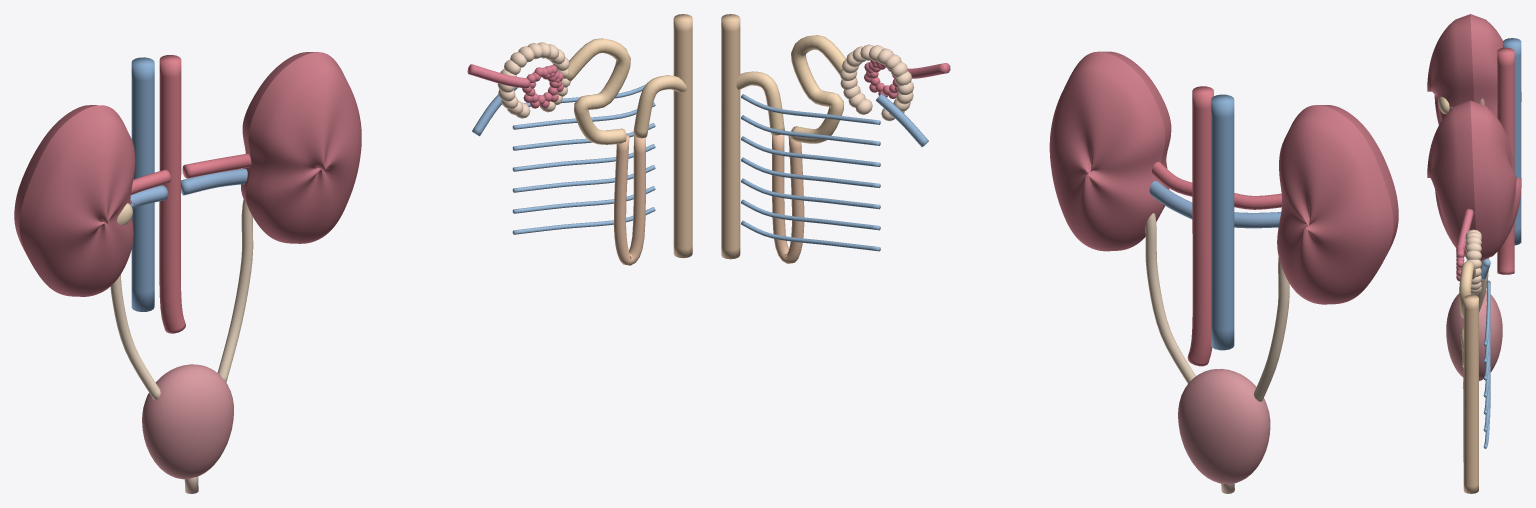
File: excretory-atlas.glb
The picture shows the model from 3 angles, left to right: view 1: azimuth 30°, elevation 25°; view 2: azimuth 150°, elevation 25°; view 3: azimuth 270°, elevation 25°; orthographic projection. The views are drawn at different scales.
Visible parts, largest first — view 1: Right kidney exterior 1, Left kidney exterior 1, Urinary bladder 1, Renal artery 20, Renal vein 20, Collecting duct 1, Loop of Henle 1, Renal tubule 1, Ureters 2, Ureters 1, Renal tubule 2, Renal vein 17 (+1 smaller); view 2: Left kidney exterior 1, Right kidney exterior 1, Urinary bladder 1, Renal vein 20, Renal artery 20, Collecting duct 1, Renal tubule 1, Loop of Henle 1, Ureters 2, Ureters 1, Renal tubule 2, Renal vein 17 (+8 smaller); view 3: Right kidney exterior 1, Left kidney exterior 1, Collecting duct 1, Urinary bladder 1, Renal artery 20, Renal vein 20, Renal tubule 1, Glomerulus 27, Peritubular capillaries 1, Ureters 2, Renal pelvis 8, Glomerulus 28 (+8 smaller).
Part boxes in pixels (left/top/right/bottom): Right kidney exterior 1: left=241, top=52, right=361, bottom=243; Left kidney exterior 1: left=14, top=105, right=135, bottom=296; Urinary bladder 1: left=142, top=364, right=233, bottom=479; Renal artery 20: left=159, top=55, right=185, bottom=333; Renal vein 20: left=131, top=57, right=154, bottom=311; Collecting duct 1: left=673, top=14, right=692, bottom=258; Loop of Henle 1: left=613, top=134, right=645, bottom=265; Renal tubule 1: left=563, top=38, right=630, bottom=144; Ureters 2: left=217, top=198, right=253, bottom=382; Ureters 1: left=110, top=274, right=160, bottom=399; Renal tubule 2: left=633, top=75, right=686, bottom=138; Renal vein 17: left=180, top=168, right=247, bottom=195; Left kidney exterior 1: left=1277, top=105, right=1398, bottom=304; Right kidney exterior 1: left=1049, top=51, right=1171, bottom=251; Urinary bladder 1: left=1178, top=368, right=1270, bottom=484; Renal vein 20: left=1211, top=94, right=1234, bottom=350; Renal artery 20: left=1187, top=86, right=1213, bottom=366; Collecting duct 1: left=721, top=14, right=740, bottom=259; Renal tubule 1: left=790, top=35, right=846, bottom=143; Loop of Henle 1: left=772, top=134, right=804, bottom=263; Ureters 2: left=1145, top=213, right=1195, bottom=383; Ureters 1: left=1254, top=257, right=1289, bottom=401; Renal tubule 2: left=736, top=71, right=784, bottom=135; Renal vein 17: left=1149, top=181, right=1192, bottom=219; Right kidney exterior 1: left=1427, top=100, right=1521, bottom=260; Left kidney exterior 1: left=1427, top=14, right=1521, bottom=124; Collecting duct 1: left=1463, top=295, right=1478, bottom=493; Urinary bladder 1: left=1446, top=290, right=1502, bottom=380; Renal artery 20: left=1497, top=47, right=1514, bottom=274; Renal vein 20: left=1503, top=38, right=1521, bottom=245; Renal tubule 1: left=1459, top=261, right=1475, bottom=324; Glomerulus 27: left=1456, top=209, right=1473, bottom=251; Peritubular capillaries 1: left=1483, top=280, right=1490, bottom=345; Ureters 2: left=1476, top=258, right=1488, bottom=312; Renal pelvis 8: left=1438, top=96, right=1449, bottom=113; Glomerulus 28: left=1480, top=259, right=1490, bottom=280.
Size of the model in its own units: 4.01 by 2.37 by 0.6005.
